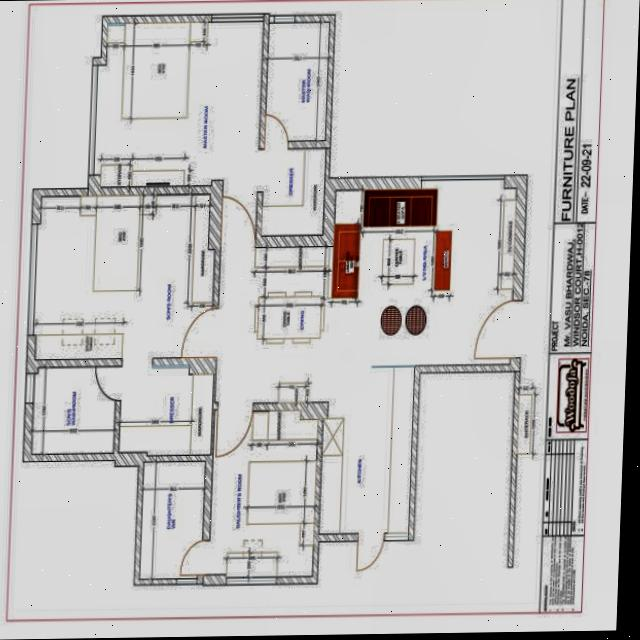room: (331, 187, 517, 366), (33, 193, 215, 359), (412, 368, 514, 566), (91, 22, 213, 186), (208, 407, 318, 580), (215, 243, 333, 404), (319, 362, 416, 541), (261, 21, 331, 234), (119, 365, 214, 455), (139, 460, 205, 582), (31, 364, 116, 455)
